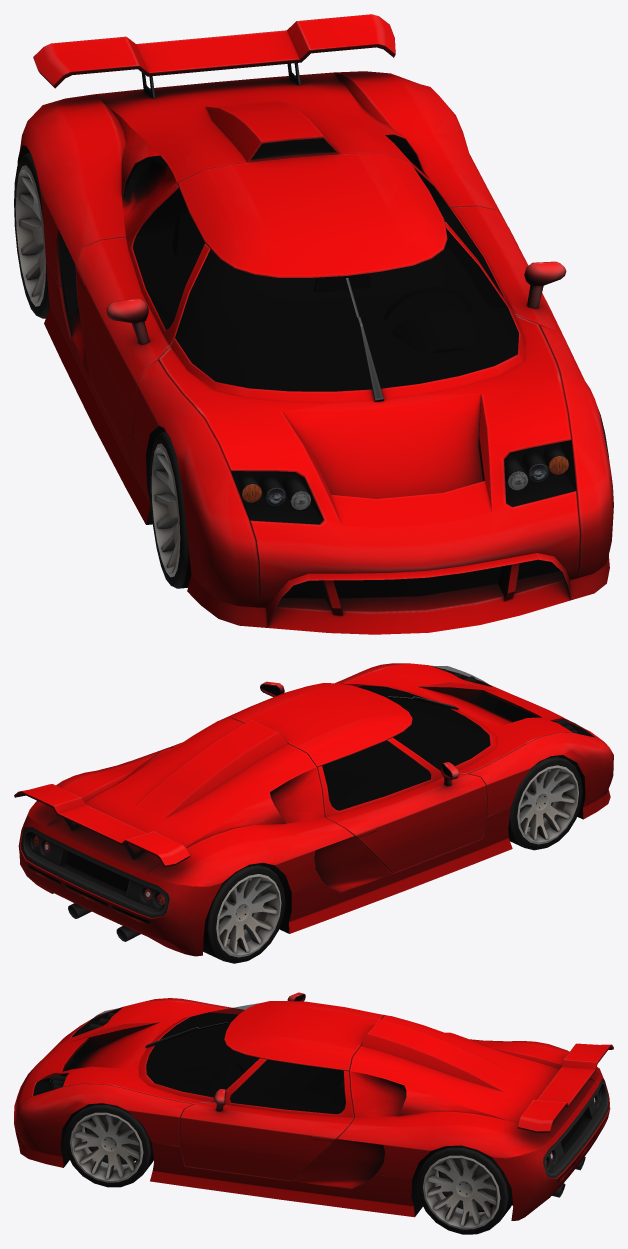
File: sport.glb
3 renders of one model, top to bottom at view 1: azimuth 30°, elevation 25°; view 2: azimuth 150°, elevation 25°; view 3: azimuth 270°, elevation 25°, orthographic. The views are drawn at different scales.
Visible parts, largest first — view 1: Sport body, Wheel_H002, Wheel_H003; view 2: Sport body, Wheel_H003, Wheel_H002; view 3: Sport body, Wheel_H001, Wheel_H.
Boxes of the visible parts, x1,y1,x2,y2 form: Sport body: (17, 14, 613, 634); Wheel_H002: (150, 431, 191, 588); Wheel_H003: (14, 152, 49, 318); Sport body: (14, 663, 613, 956); Wheel_H003: (203, 863, 285, 963); Wheel_H002: (508, 755, 582, 850); Sport body: (14, 992, 613, 1220); Wheel_H001: (417, 1145, 512, 1234); Wheel_H: (64, 1103, 153, 1187).
Bounding box in the file's own units: 2.95 × 1.21 × 4.61.
Materials: 4 (3 with a texture image).
